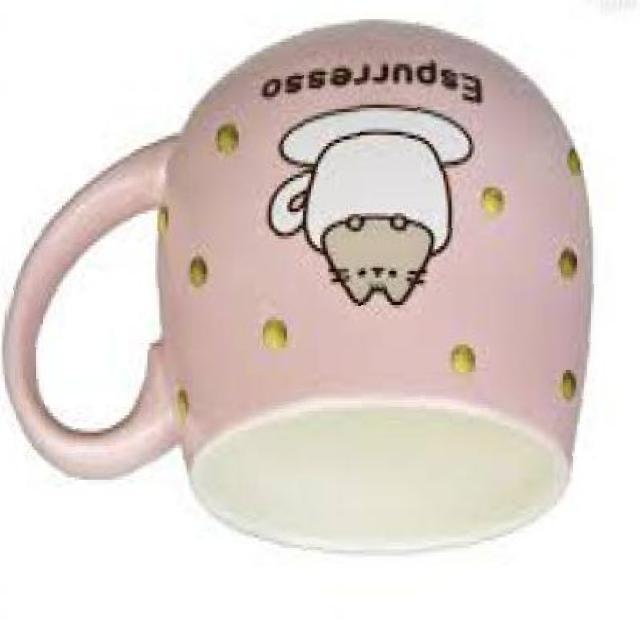cup: (0, 3, 607, 571)
